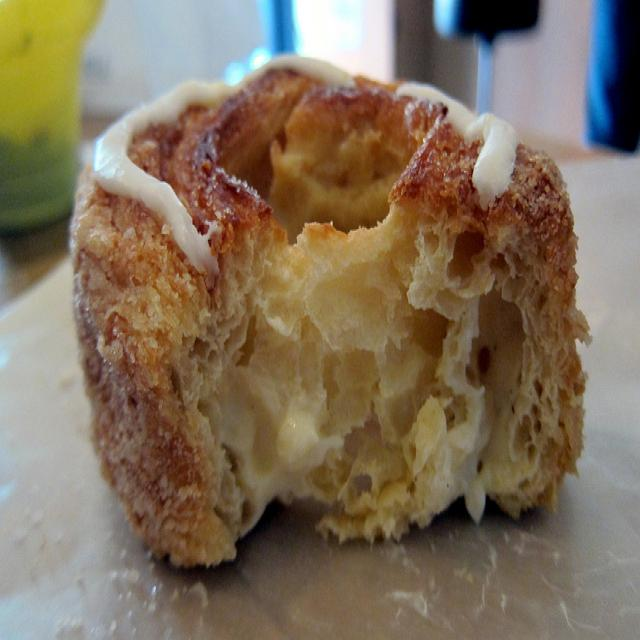chair: (429, 32, 486, 116)
dining table: (2, 135, 638, 633)
